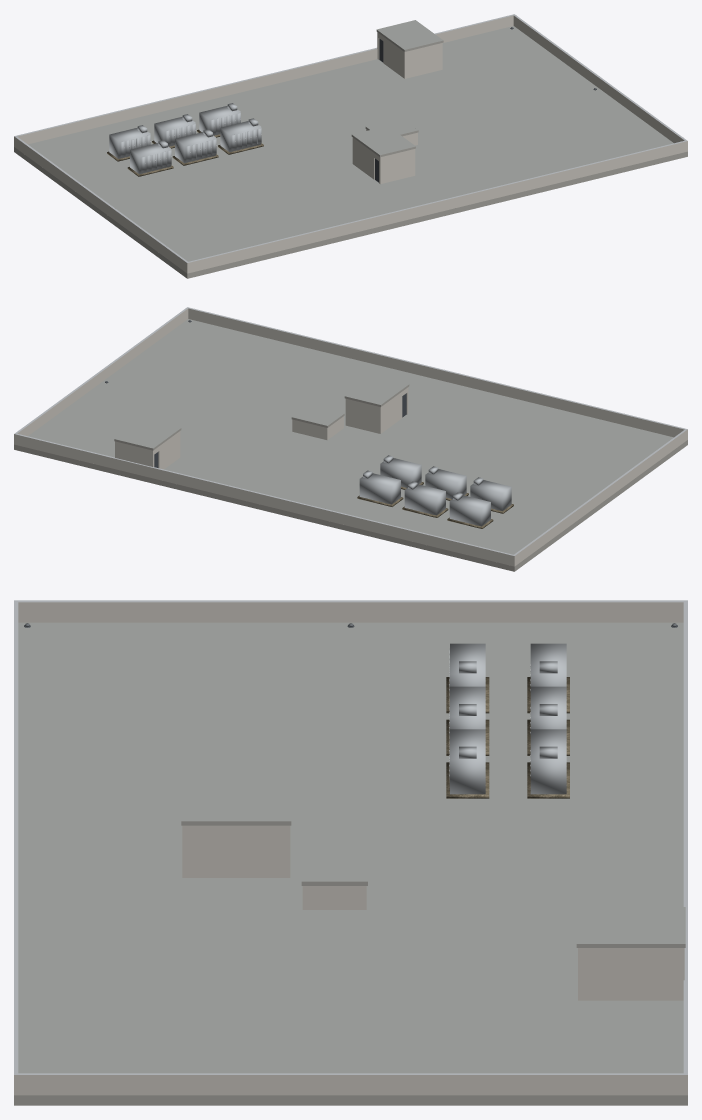
The model's file is 33_azotea.glb.
3 renders of one model, top to bottom at view 1: azimuth 30°, elevation 25°; view 2: azimuth 150°, elevation 25°; view 3: azimuth 270°, elevation 25°, orthographic. The views are drawn at different scales.
Parts seen in each view (by area): view 1: Losa de azotea y pretil, uma (×6), tapa de escalera de emergencia, tapa de escalera principal, remate del cubo del elevador (sin cuarto de máquinas); view 2: Losa de azotea y pretil, uma (×6), tapa de escalera principal, tapa de escalera de emergencia, remate del cubo del elevador (sin cuarto de máquinas); view 3: Losa de azotea y pretil, uma (×6), tapa de escalera de emergencia, tapa de escalera principal, remate del cubo del elevador (sin cuarto de máquinas).
Part boxes in pixels (bbox=[...]): Losa de azotea y pretil: bbox=[14, 14, 687, 278]; uma (×6): bbox=[107, 103, 263, 176]; tapa de escalera de emergencia: bbox=[376, 20, 443, 78]; tapa de escalera principal: bbox=[351, 126, 415, 184]; remate del cubo del elevador (sin cuarto de máquinas): bbox=[365, 118, 418, 145]; Losa de azotea y pretil: bbox=[14, 307, 687, 571]; uma (×6): bbox=[357, 455, 513, 528]; tapa de escalera principal: bbox=[344, 375, 409, 433]; tapa de escalera de emergencia: bbox=[114, 418, 181, 469]; remate del cubo del elevador (sin cuarto de máquinas): bbox=[291, 404, 344, 440]; Losa de azotea y pretil: bbox=[14, 600, 687, 1105]; uma (×6): bbox=[446, 643, 569, 798]; tapa de escalera de emergencia: bbox=[576, 907, 685, 1000]; tapa de escalera principal: bbox=[181, 787, 291, 877]; remate del cubo del elevador (sin cuarto de máquinas): bbox=[301, 847, 367, 909].
Size of the model in its own units: 50 by 3.3 by 30.
Materials: 9 (2 with a texture image).
